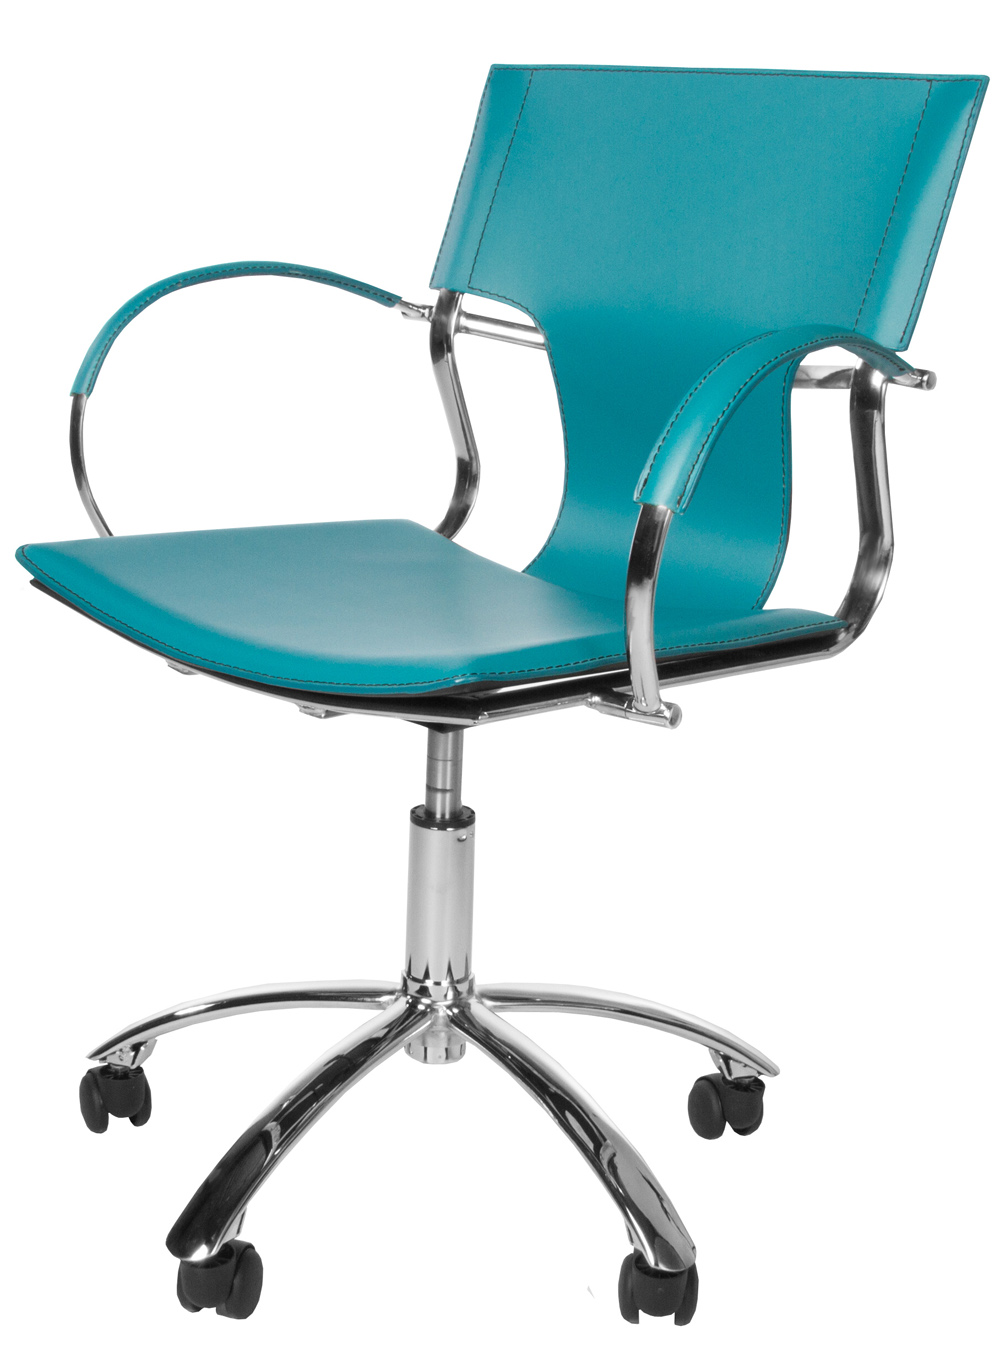chairs: (5, 51, 1000, 1333)
